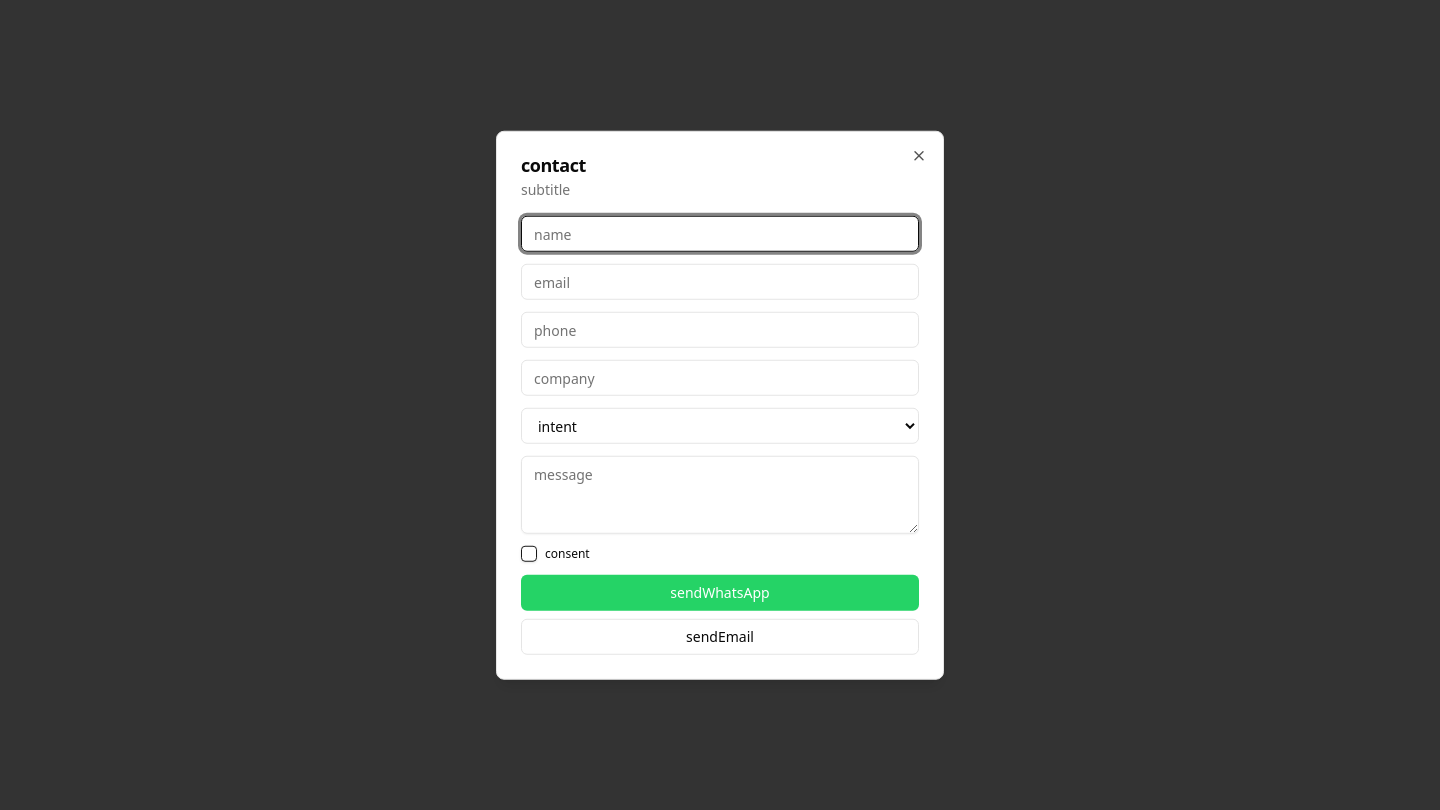
Test: ContactModal › switches to the plain confirmation after the lead is captured via either button
Type "ana@example.com" into the field with placeholder "email" at (720, 282), box [521,264,919,300]
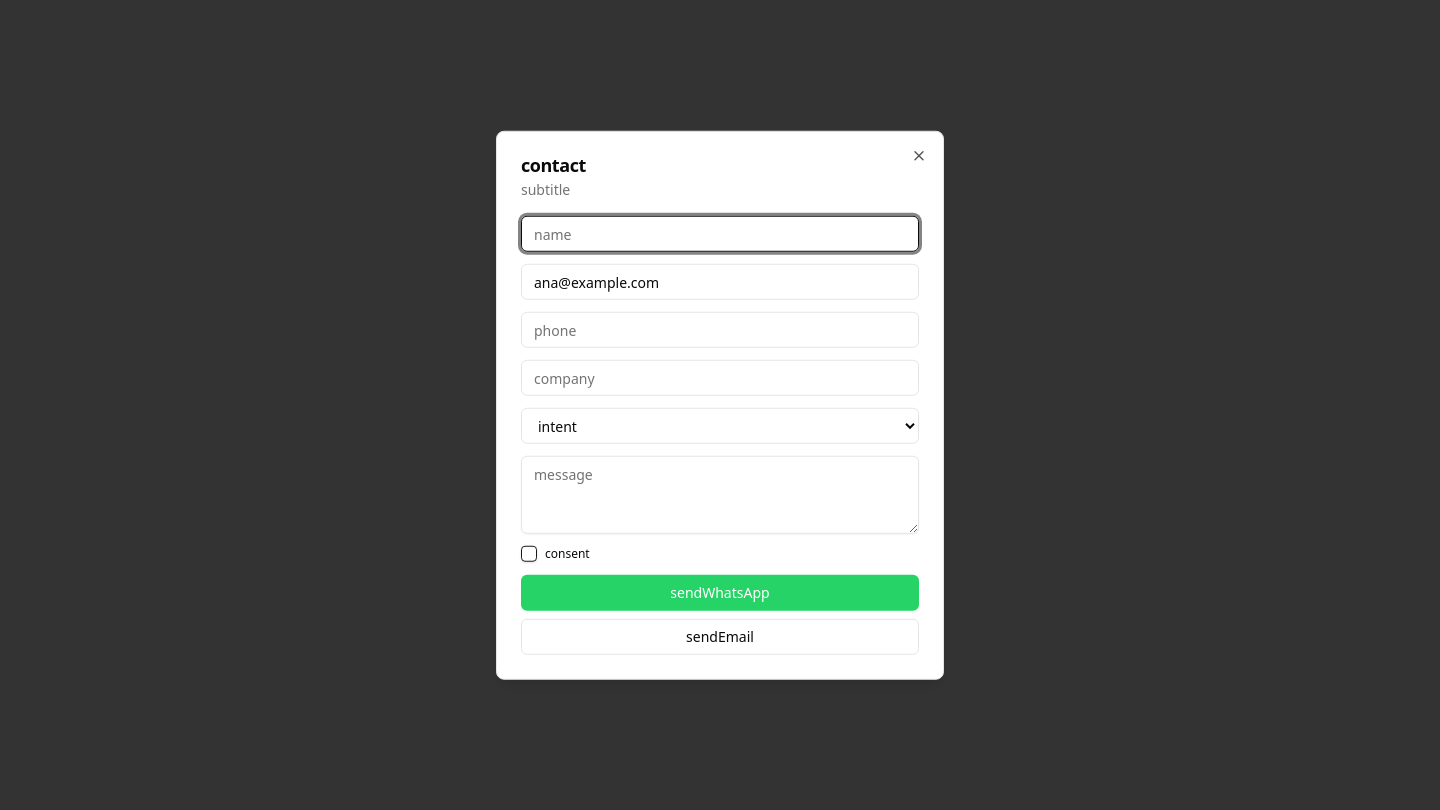
Click the checkbox at (529, 554), box [521,546,537,562]
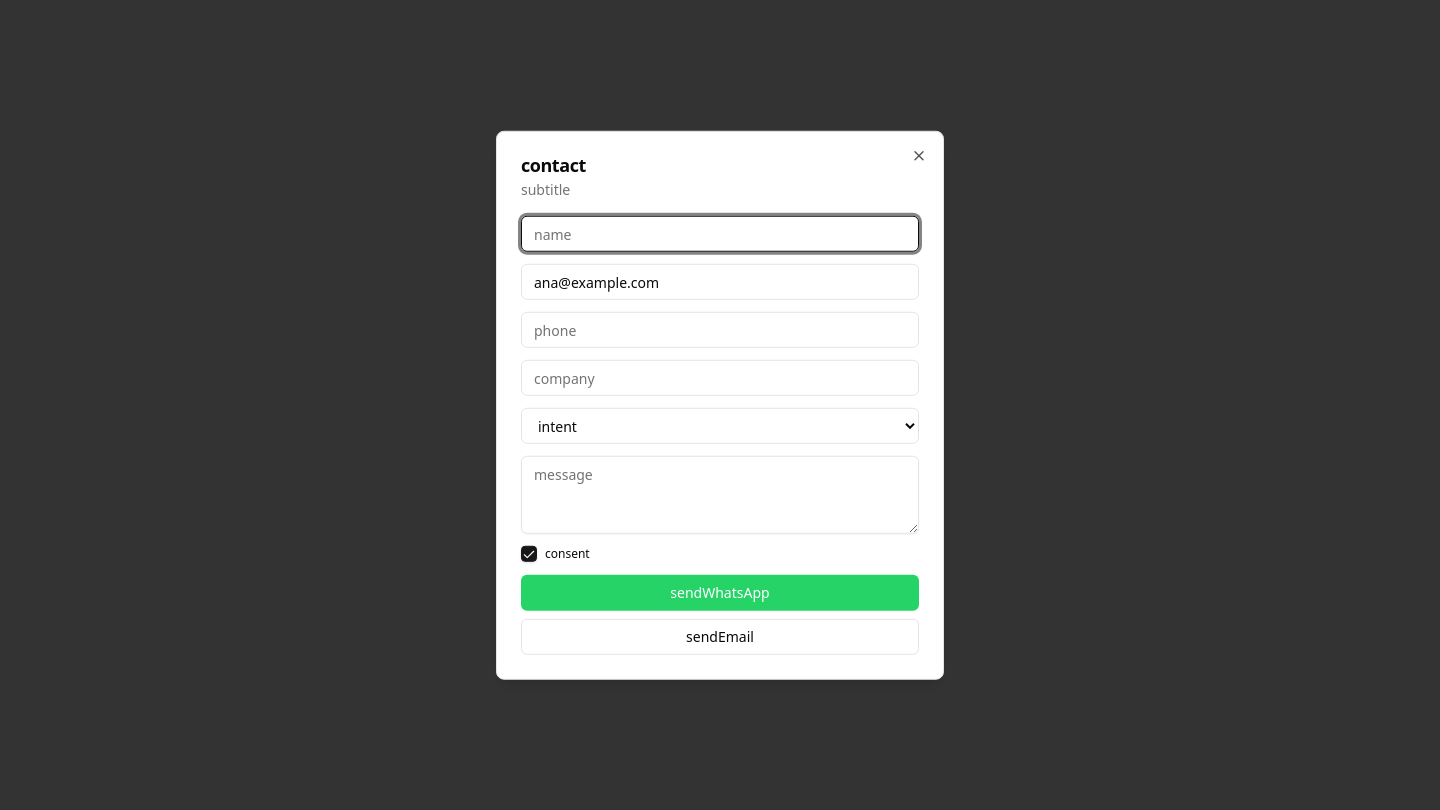
Click the button "sendEmail" at (720, 636), box [521,618,919,654]
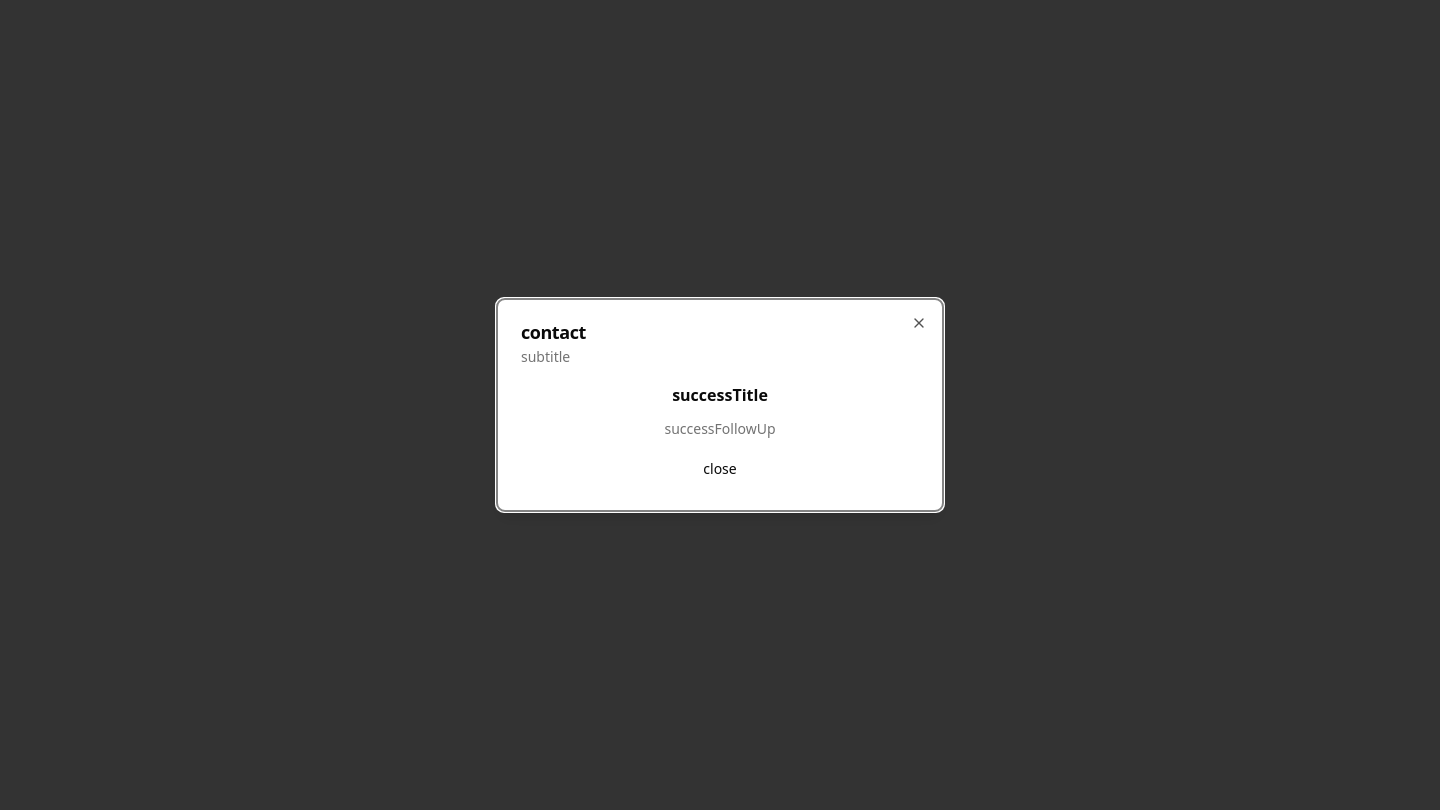
Result: the heading "successTitle" is shown at [672,384,768,406]
Result: the form with test id "lead-form" is gone
